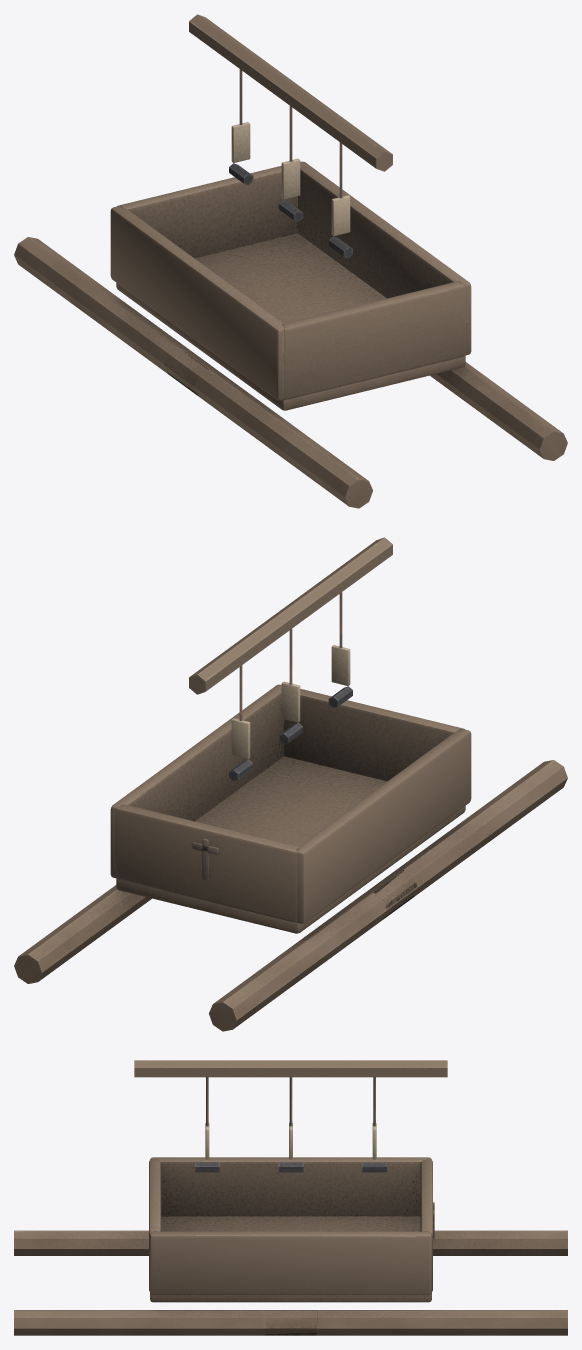
Rendered from mansi_shrine.glb.
3 views of the same model, one above another, from view 1: azimuth 30°, elevation 25°; view 2: azimuth 150°, elevation 25°; view 3: azimuth 270°, elevation 25° (orthographic). The views are drawn at different scales.
Parts seen in each view (by area): view 1: mansi_shrine; view 2: mansi_shrine; view 3: mansi_shrine.
Part boxes in pixels (bbox=[...]): mansi_shrine: bbox=[14, 14, 567, 508]; mansi_shrine: bbox=[14, 537, 567, 1031]; mansi_shrine: bbox=[14, 1060, 567, 1335].
Size of the model in its own units: 1.03 by 1.24 by 2.65.
1 material, 1 textured.
